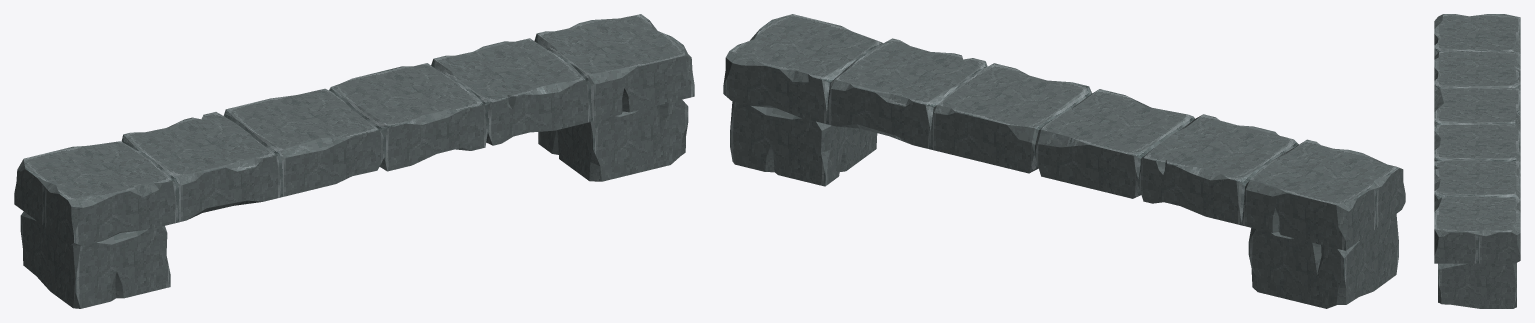
Rendered from Stone Bridge W6.fbx.
3 views of the same model, side by side, from view 1: azimuth 30°, elevation 25°; view 2: azimuth 150°, elevation 25°; view 3: azimuth 270°, elevation 25° (orthographic). The views are drawn at different scales.
Visible parts, largest first — view 1: StoneBridge_W6; view 2: StoneBridge_W6; view 3: StoneBridge_W6.
Boxes of the visible parts, x1,y1,x2,y2 form: StoneBridge_W6: (14,14,694,308); StoneBridge_W6: (723,14,1405,308); StoneBridge_W6: (1434,14,1520,308).
Size of the model in its own units: 6 by 1 by 1.
